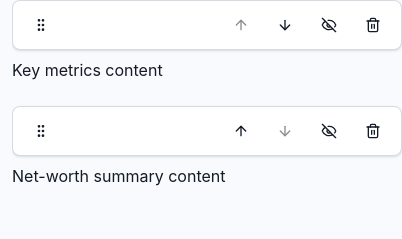
Test case: SortableDashboard › supports explicit reordering and confirmed removal
The width and height of the screenshot is (402, 239).
Click the button named "Move Net-worth summary up": (241, 131) [221, 111, 261, 151]
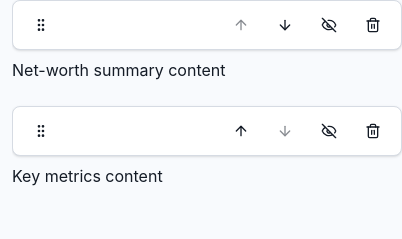
Click the button named "Remove Net-worth summary": (373, 25) [353, 5, 393, 45]
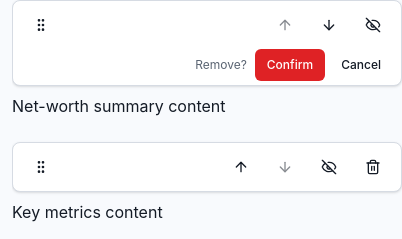
Expected: the element named "Remove Net-worth summary?" is shown, [191, 49, 393, 81]
Click the button "Confirm": (290, 65) [255, 49, 325, 81]
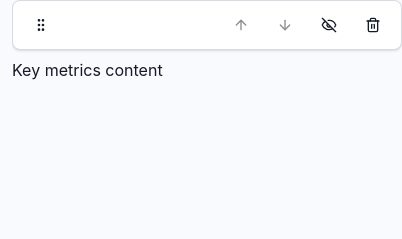
Expected: the text "Net-worth summary content" is gone
